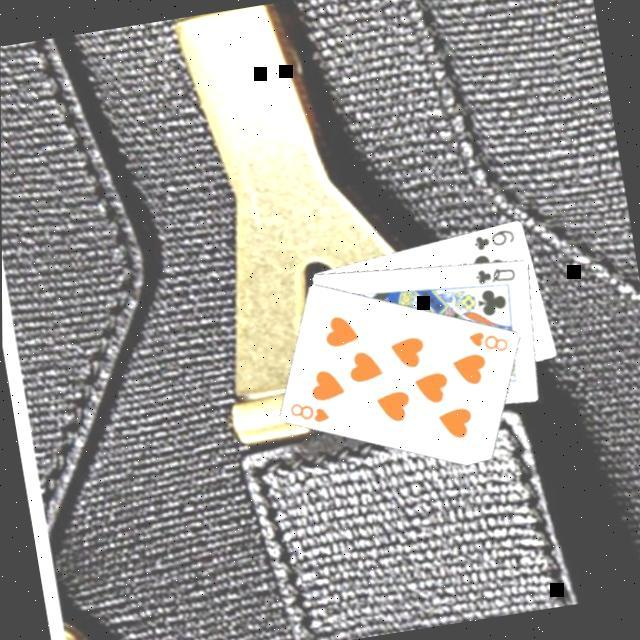6C: (471, 226, 521, 256)
8H: (466, 325, 514, 362), (287, 396, 335, 431)
QC: (473, 262, 522, 290)
